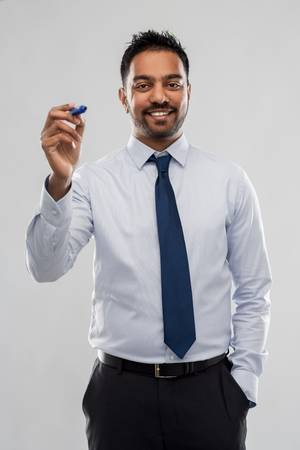F_shirt: (25, 131, 273, 406)
F_tie: (147, 153, 199, 360)
